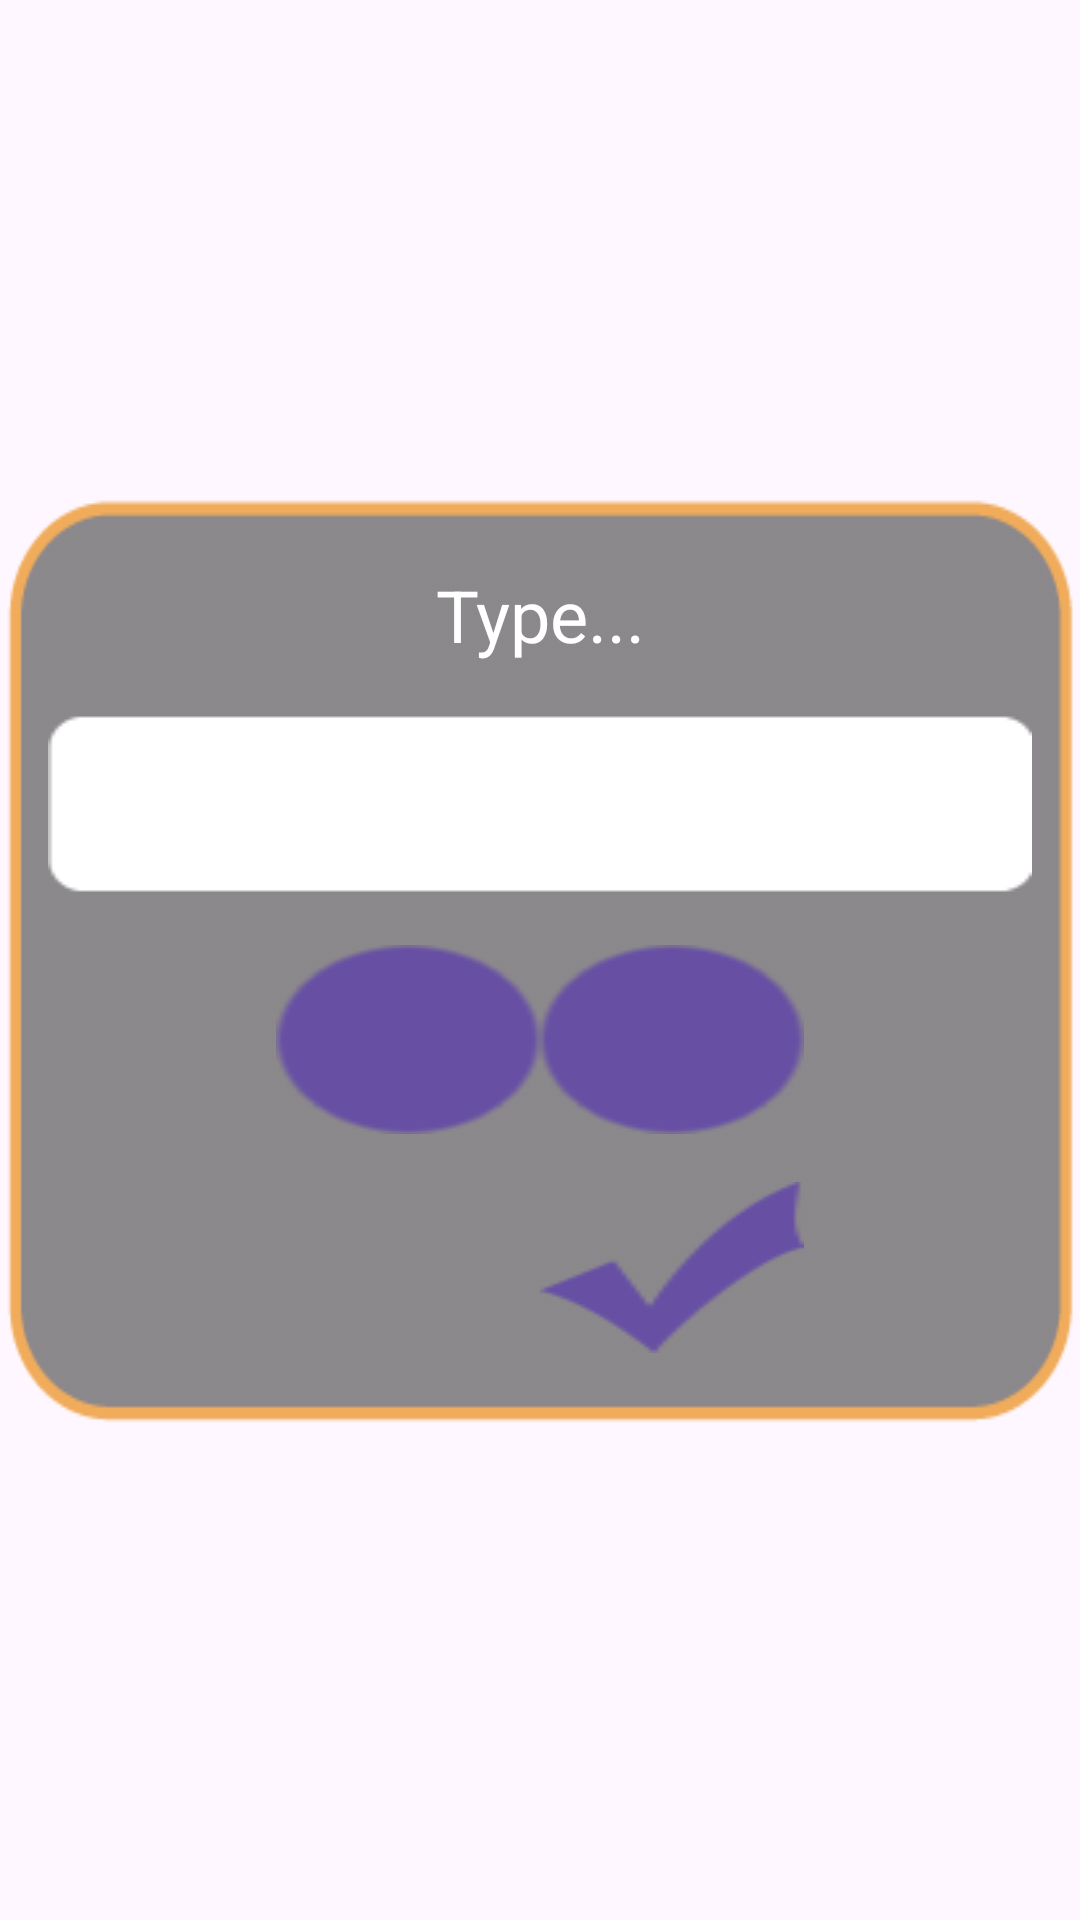

Locate icon controls on the screen. Image size 1080px x 1920px, boxes as (x1, y1, x2, y2).
tik: (543, 1182, 804, 1351)
